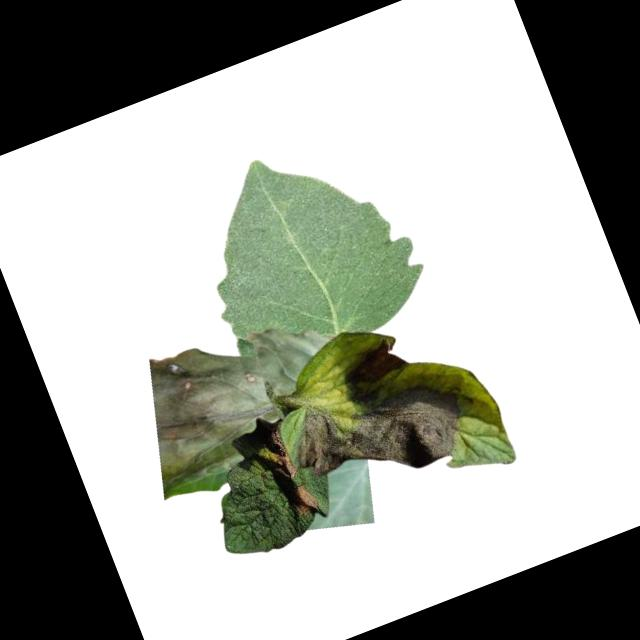Late_blight: (114, 297, 364, 494), (284, 365, 475, 509), (340, 334, 411, 393), (284, 482, 321, 521), (268, 444, 299, 484)
healthy: (173, 117, 438, 379)
